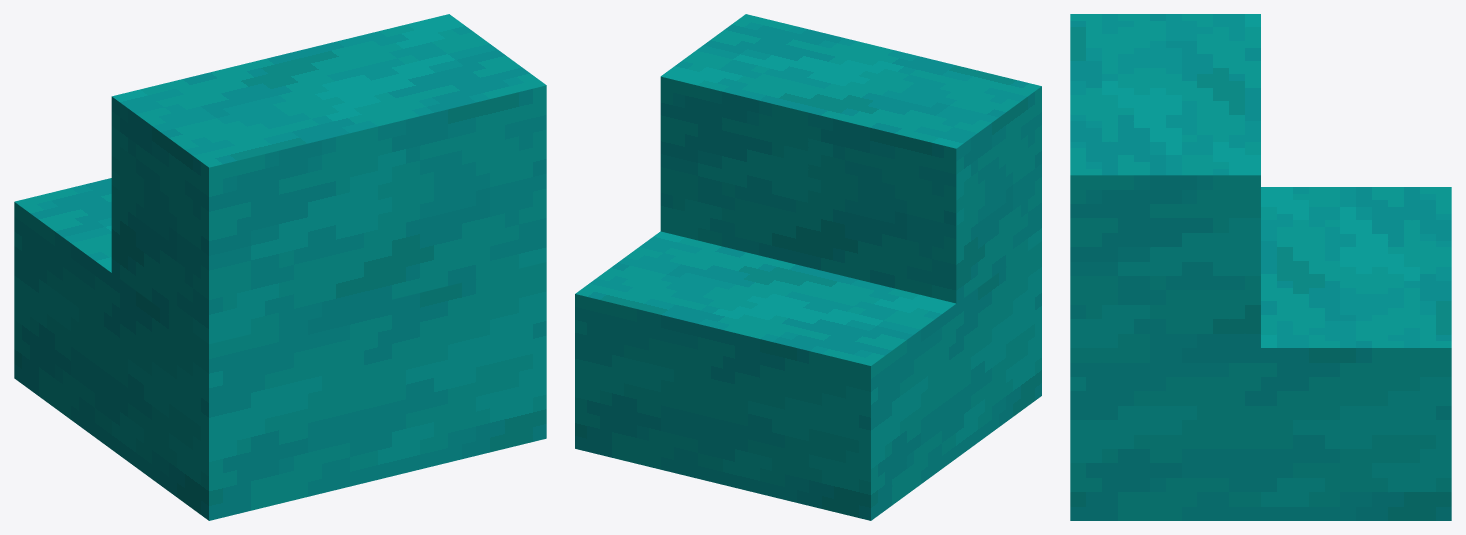
File: cyan concrete stairs.gltf
3 views of the same model, side by side, from view 1: azimuth 30°, elevation 25°; view 2: azimuth 150°, elevation 25°; view 3: azimuth 270°, elevation 25° (orthographic). The views are drawn at different scales.
Parts seen in each view (by area): view 1: cube; view 2: cube; view 3: cube.
Boxes of the visible parts, x1,y1,x2,y2 form: cube: [14, 14, 546, 520]; cube: [575, 14, 1041, 520]; cube: [1070, 14, 1451, 520].
Size of the model in its own units: 1 by 1 by 1.
Materials: 1 (1 with a texture image).
